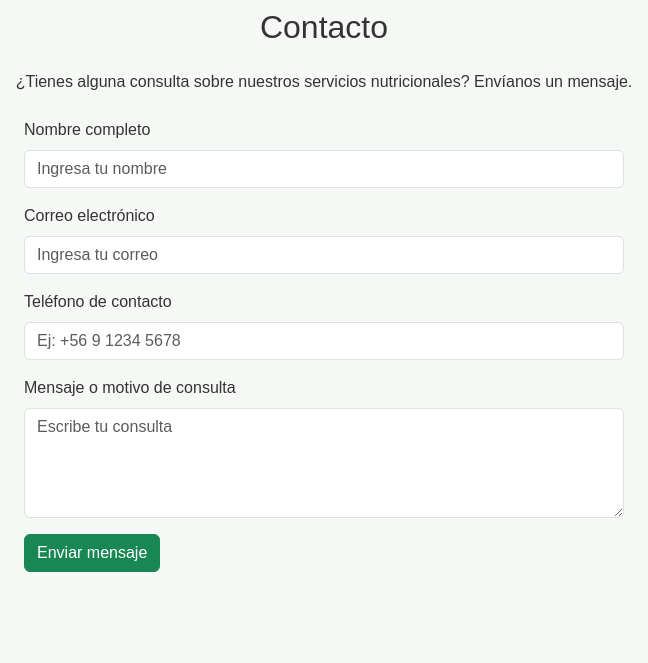
Test: Pruebas del formulario de Contacto › Debe mostrar un error si el correo no es válido
This screenshot has width=648, height=663.
Type "Camila" into the field labelled "Nombre completo" at (324, 169), box [24, 150, 624, 188]
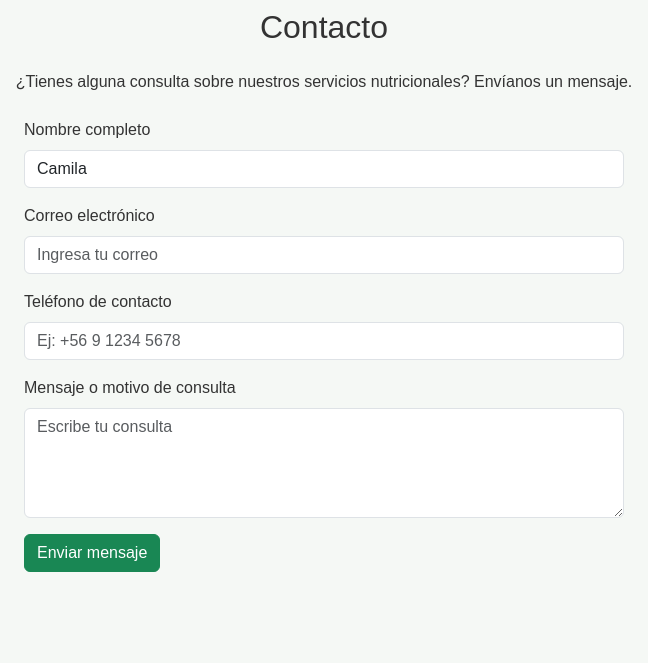
Type "correo-invalido" into the field labelled "Correo electrónico" at (324, 255), box [24, 236, 624, 274]
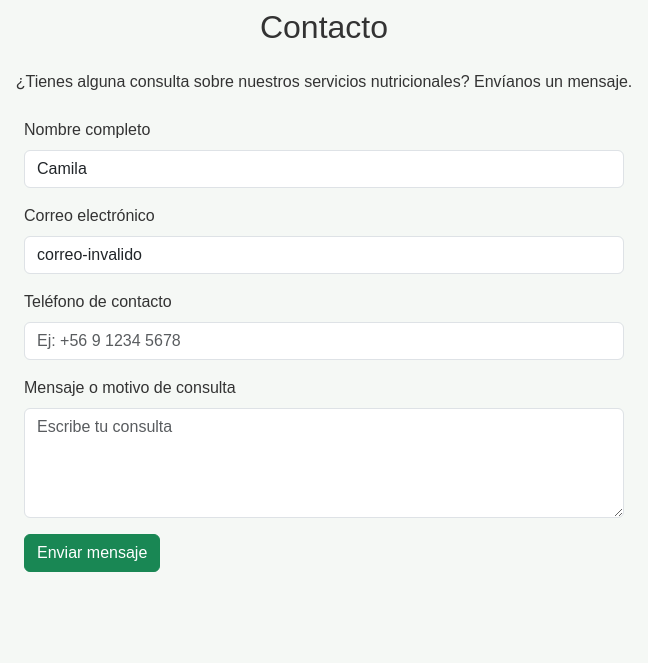
Type "+56912345678" into the field labelled "Teléfono de contacto" at (324, 341), box [24, 322, 624, 360]
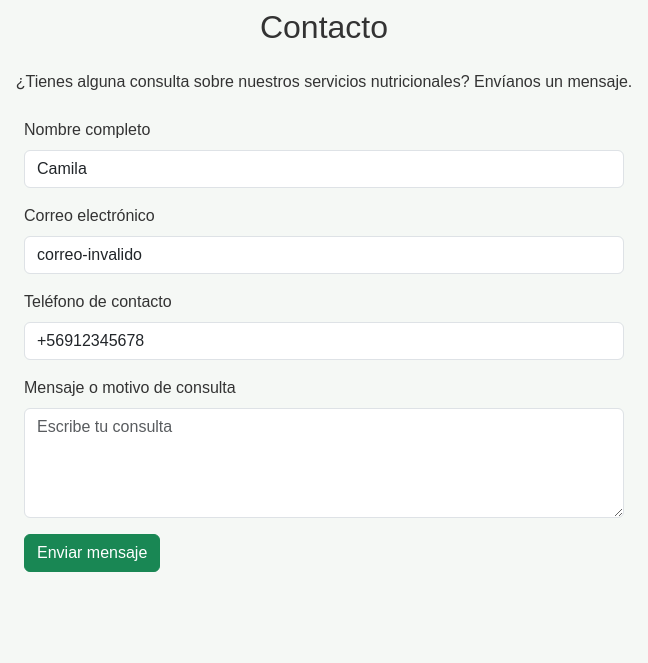
Type "Necesito información nutricional" into the text box labelled "Mensaje o motivo de consulta" at (324, 463), box [24, 408, 624, 518]
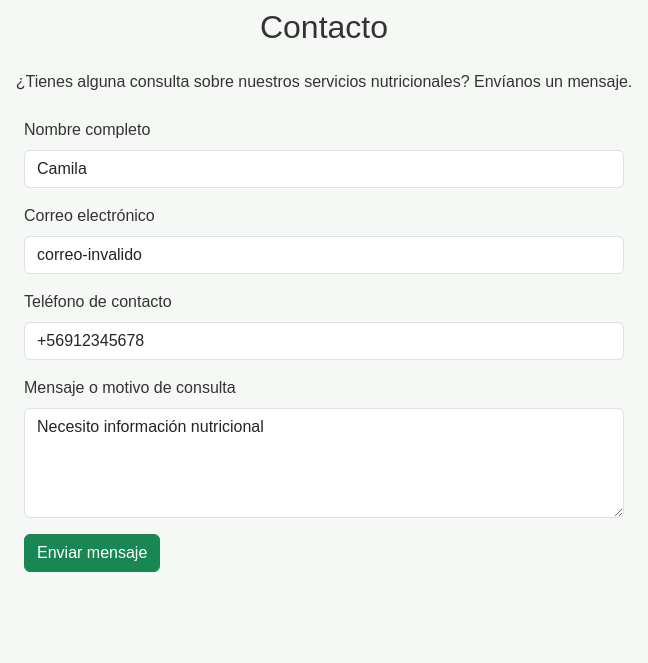
Click the button "Enviar mensaje" at (92, 553), box [24, 534, 160, 572]
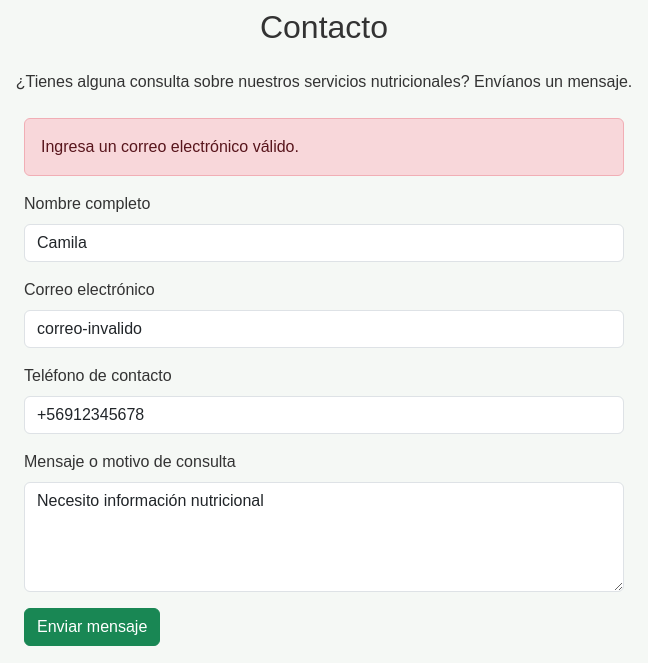
Expected: the message reads "Ingresa un correo electrónico válido.", [41, 138, 299, 155]
